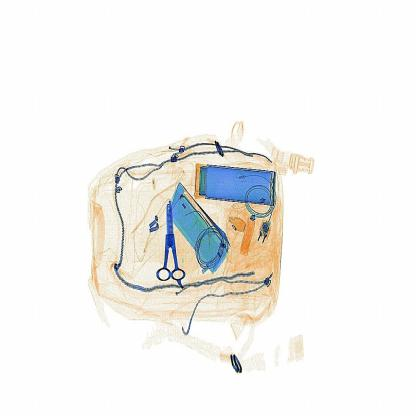gun: (150, 189, 200, 302)
